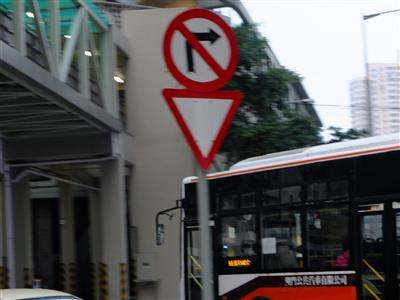noRightTurn: (161, 7, 240, 92)
yield: (158, 85, 244, 171)
